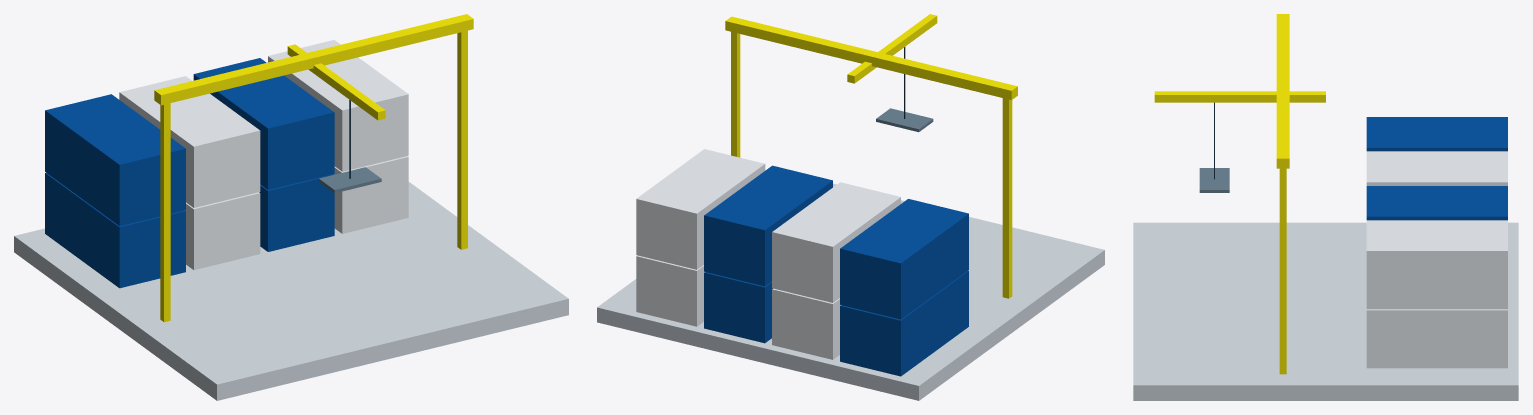
The model's file is port.glb.
3 renders of one model, left to right at view 1: azimuth 30°, elevation 25°; view 2: azimuth 150°, elevation 25°; view 3: azimuth 270°, elevation 25°, orthographic. The views are drawn at different scales.
Visible parts, largest first — view 1: StackedContainer (×8), Pier, CraneBeam, CraneLeg (×2), CraneRail, Spreader; view 2: StackedContainer (×8), Pier, CraneBeam, CraneLeg (×2), CraneRail, Spreader; view 3: Pier, StackedContainer (×5), CraneBeam, CraneRail, CraneLeg, Spreader.
Boxes of the visible parts, x1=… form: StackedContainer (×8): x1=45, y1=40, x2=408, y2=288; Pier: x1=14, y1=182, x2=568, y2=400; CraneBeam: x1=154, y1=14, x2=473, y2=105; CraneLeg (×2): x1=160, y1=30, x2=467, y2=322; CraneRail: x1=287, y1=44, x2=385, y2=120; Spreader: x1=318, y1=167, x2=381, y2=193; StackedContainer (×8): x1=636, y1=149, x2=968, y2=376; Pier: x1=597, y1=183, x2=1104, y2=400; CraneBeam: x1=725, y1=16, x2=1017, y2=99; CraneLeg (×2): x1=731, y1=32, x2=1012, y2=298; CraneRail: x1=847, y1=14, x2=937, y2=83; Spreader: x1=876, y1=108, x2=933, y2=132; Pier: x1=1133, y1=222, x2=1518, y2=400; StackedContainer (×5): x1=1366, y1=117, x2=1507, y2=368; CraneBeam: x1=1276, y1=14, x2=1289, y2=168; CraneRail: x1=1154, y1=91, x2=1325, y2=102; CraneLeg: x1=1279, y1=168, x2=1286, y2=374; Spreader: x1=1199, y1=168, x2=1229, y2=192.
Bounding box in the file's own units: 9 × 6.01 × 9.
